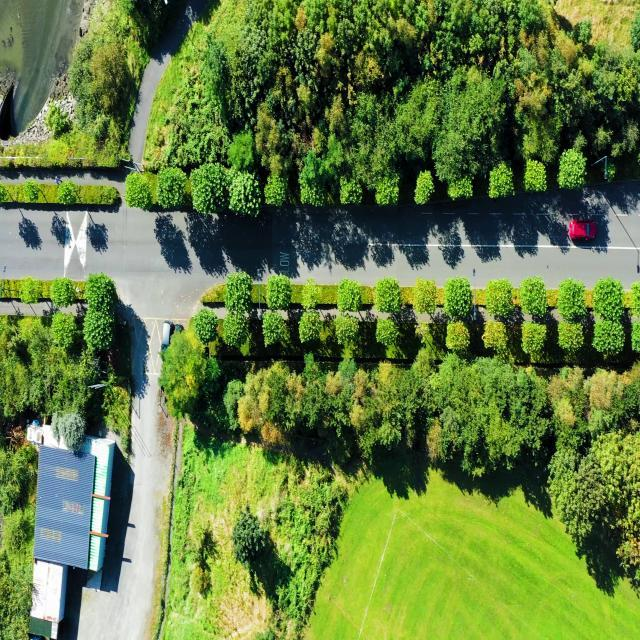vehicle: (568, 218, 597, 240), (160, 320, 173, 360), (174, 324, 184, 334), (55, 176, 63, 186)
